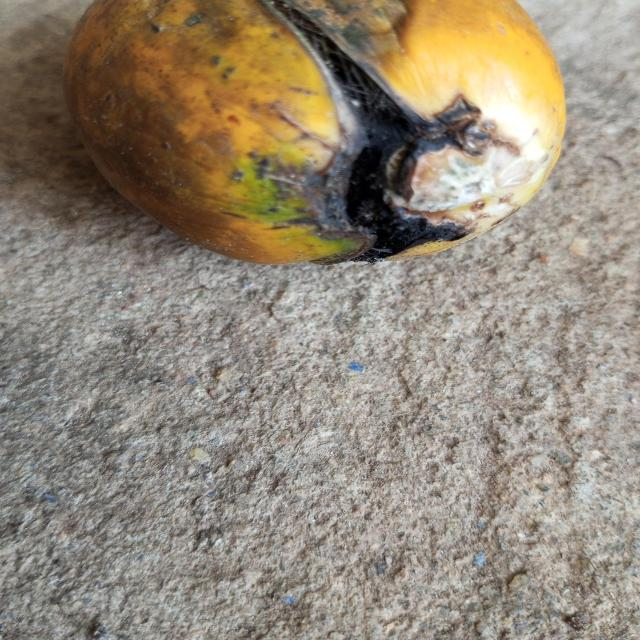damaged: (62, 0, 567, 267)
